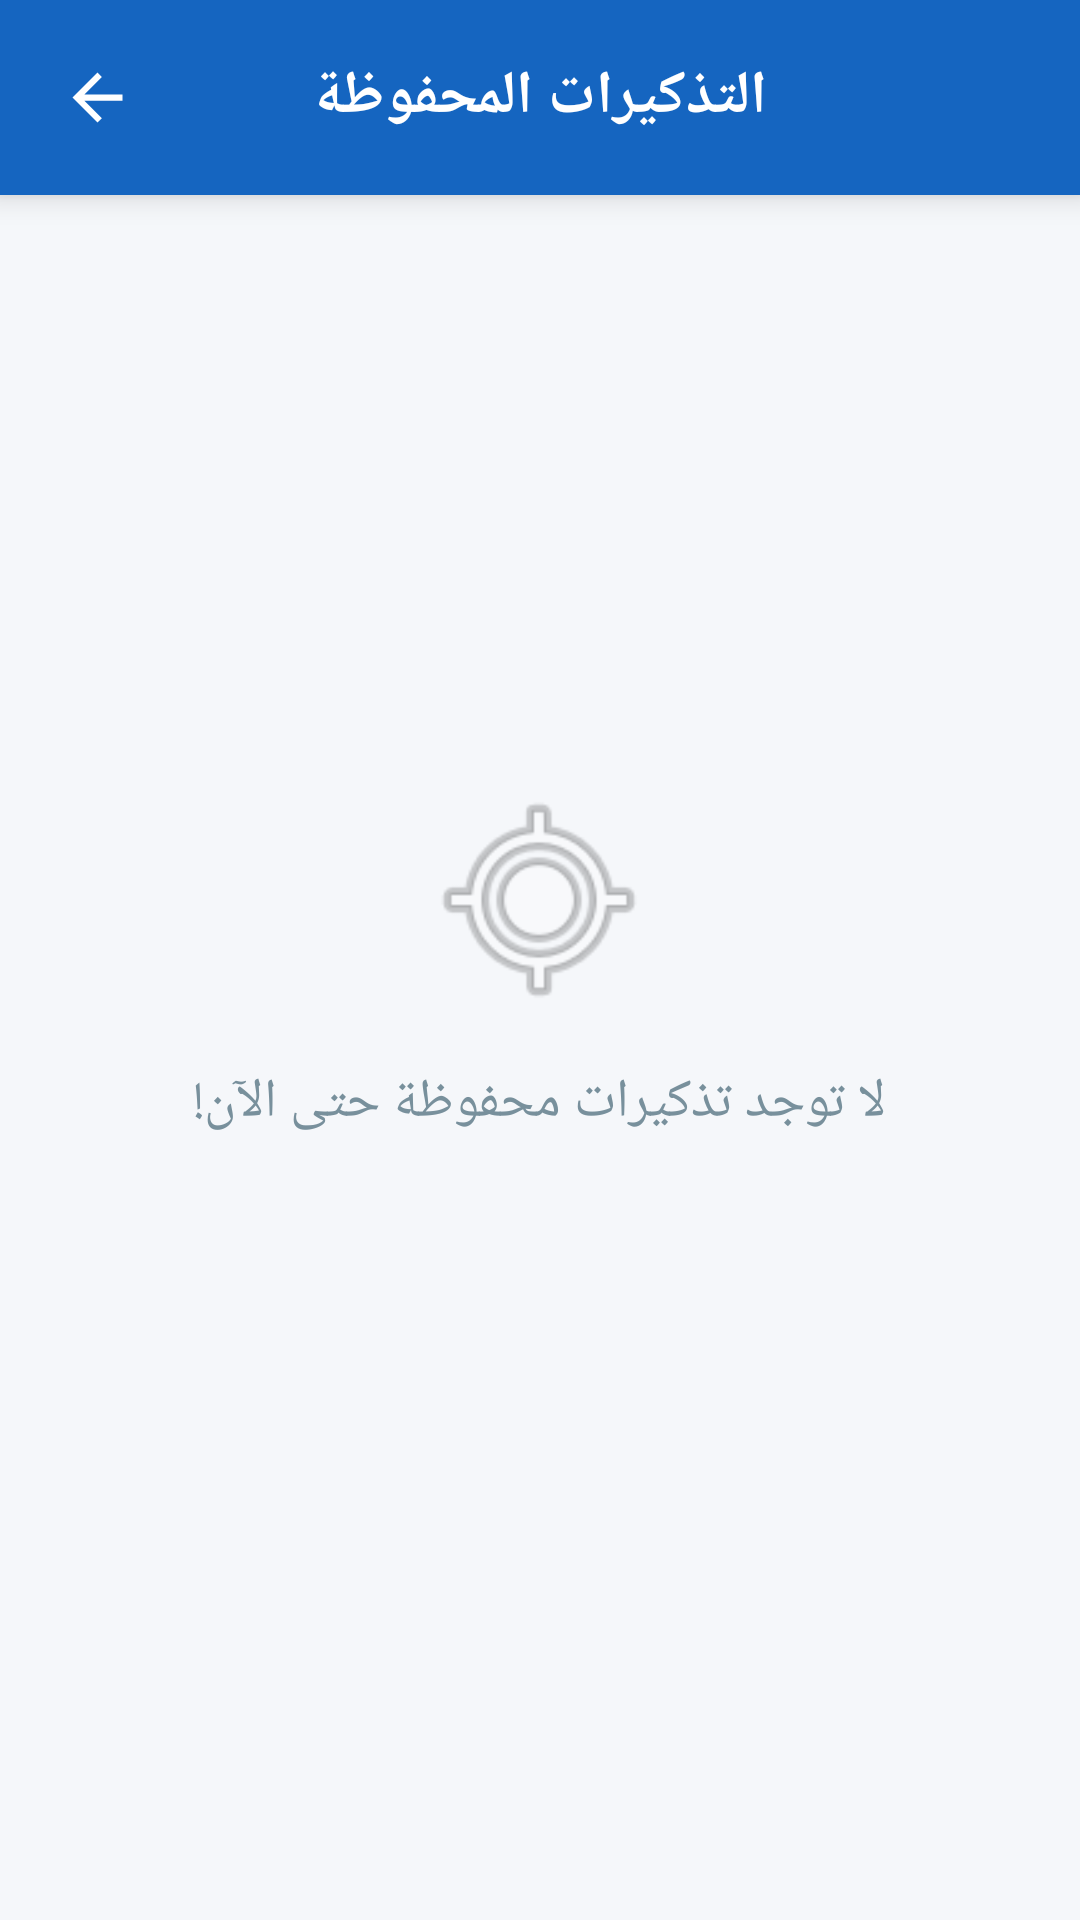

Where to tap for icons on this 1080px×1920px app screen, as [x,y]:
mylocation: [539,900]
